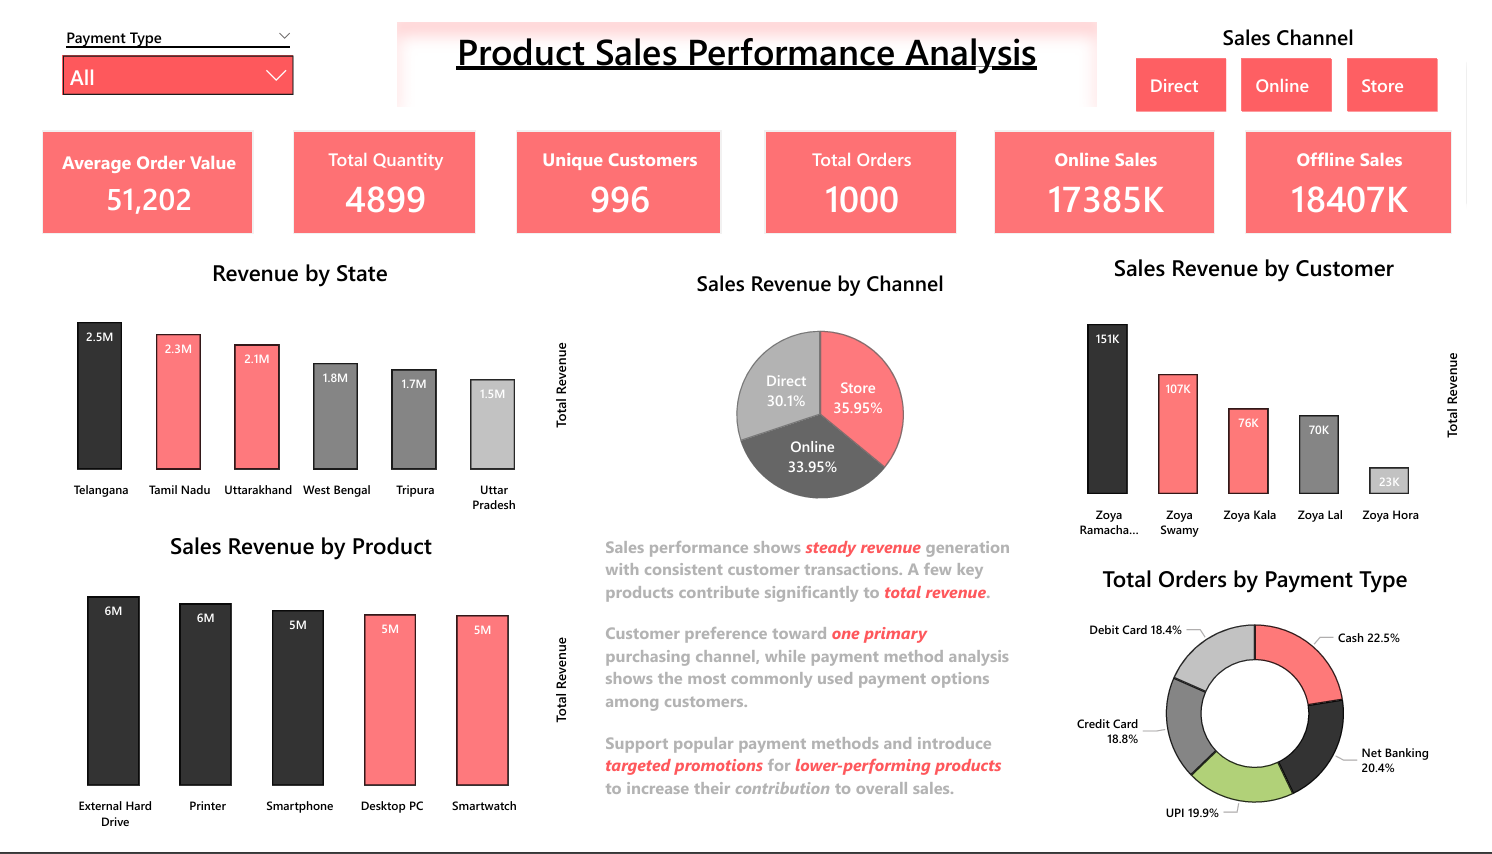

The page's visual inventory and layout, read from the dashboard file:
{"tool":"powerbi","page":{"name":"Overview","canvas":[1280,720],"ordinal":0},"visuals":[{"type":"pieChart","title":"Sales Revenue by Channel","fields":{"Category":["SalesData.Sales Channel"],"Y":["All Measures.Total Revenue"]},"box":[550,215.6,310,234.4],"z":0},{"type":"textbox","box":[329.2,0,621.6,74.1],"z":1000},{"type":"cardVisual","fields":{"Data":["All Measures.Total Orders"]},"box":[646.2,86.1,190,110.9],"z":1000,"group":"g1"},{"type":"cardVisual","fields":{"Data":["All Measures.Average Order Value"]},"box":[4,86,207.2,111.1],"z":2000,"group":"g1"},{"type":"clusteredColumnChart","title":"Revenue by State","fields":{"Category":["SalesData.State"],"Y":["All Measures.Total Revenue"]},"box":[0,206.7,485.3,232],"z":2000},{"type":"group","id":"g1","title":"Group 1","box":[4,86,1272,111.3],"z":3000},{"type":"cardVisual","fields":{"Data":["All Measures.Online Sales"]},"box":[850.1,86,215.8,111.1],"z":4000,"group":"g1"},{"type":"clusteredColumnChart","title":"Sales Revenue by Customer","fields":{"Category":["SalesData.Customer Name"],"Y":["All Measures.Total Revenue"]},"box":[902.2,201.1,376.7,262.2],"z":4000},{"type":"cardVisual","fields":{"Data":["All Measures.Offline Sales"]},"box":[1073.3,86,203.2,111.1],"z":5000,"group":"g1"},{"type":"clusteredColumnChart","title":"Sales Revenue by Product","fields":{"Category":["SalesData.Product"],"Y":["All Measures.Total Revenue"]},"box":[2,450,483.3,270],"z":5000},{"type":"advancedSlicerVisual","fields":{"Values":["SalesData.Sales Channel"]},"box":[979,0,283.6,85.8],"z":6000},{"type":"cardVisual","fields":{"Data":["All Measures.Total Quantity"]},"box":[226.6,86.1,182.3,110.9],"z":6000,"group":"g1"},{"type":"slicer","fields":{"Values":["SalesData.Payment Type"]},"box":[23.6,0,221.4,75.9],"z":7000},{"type":"cardVisual","fields":{"Data":["All Measures.Unique Customers"]},"box":[425.2,86.1,201.4,110.9],"z":7000,"group":"g1"},{"type":"donutChart","fields":{"Category":["SalesData.Payment Type"],"Y":["All Measures.Total Orders"]},"box":[902.9,477.1,377.1,242.9],"z":8000},{"type":"textbox","box":[508.6,450,374.3,270],"z":9000}]}

Visuals, with their boxes in screenshot pixels (x1, y1, x2, y2), scaled from the page's 1280x720 canvas onto the 1492x854 screenshot:
"Sales Revenue by Channel" pieChart: rect(641, 256, 1002, 534)
textbox: rect(384, 0, 1108, 88)
cardVisual - All Measures.Total Orders: rect(753, 102, 975, 234)
cardVisual - All Measures.Average Order Value: rect(5, 102, 246, 234)
"Revenue by State" clusteredColumnChart: rect(0, 245, 566, 520)
"Group 1" group: rect(5, 102, 1487, 234)
cardVisual - All Measures.Online Sales: rect(991, 102, 1242, 234)
"Sales Revenue by Customer" clusteredColumnChart: rect(1052, 239, 1491, 550)
cardVisual - All Measures.Offline Sales: rect(1251, 102, 1488, 234)
"Sales Revenue by Product" clusteredColumnChart: rect(2, 534, 566, 853)
advancedSlicerVisual - SalesData.Sales Channel: rect(1141, 0, 1472, 102)
cardVisual - All Measures.Total Quantity: rect(264, 102, 477, 234)
slicer - SalesData.Payment Type: rect(28, 0, 286, 90)
cardVisual - All Measures.Unique Customers: rect(496, 102, 730, 234)
donutChart - SalesData.Payment Type x All Measures.Total Orders: rect(1052, 566, 1491, 853)
textbox: rect(593, 534, 1029, 853)
